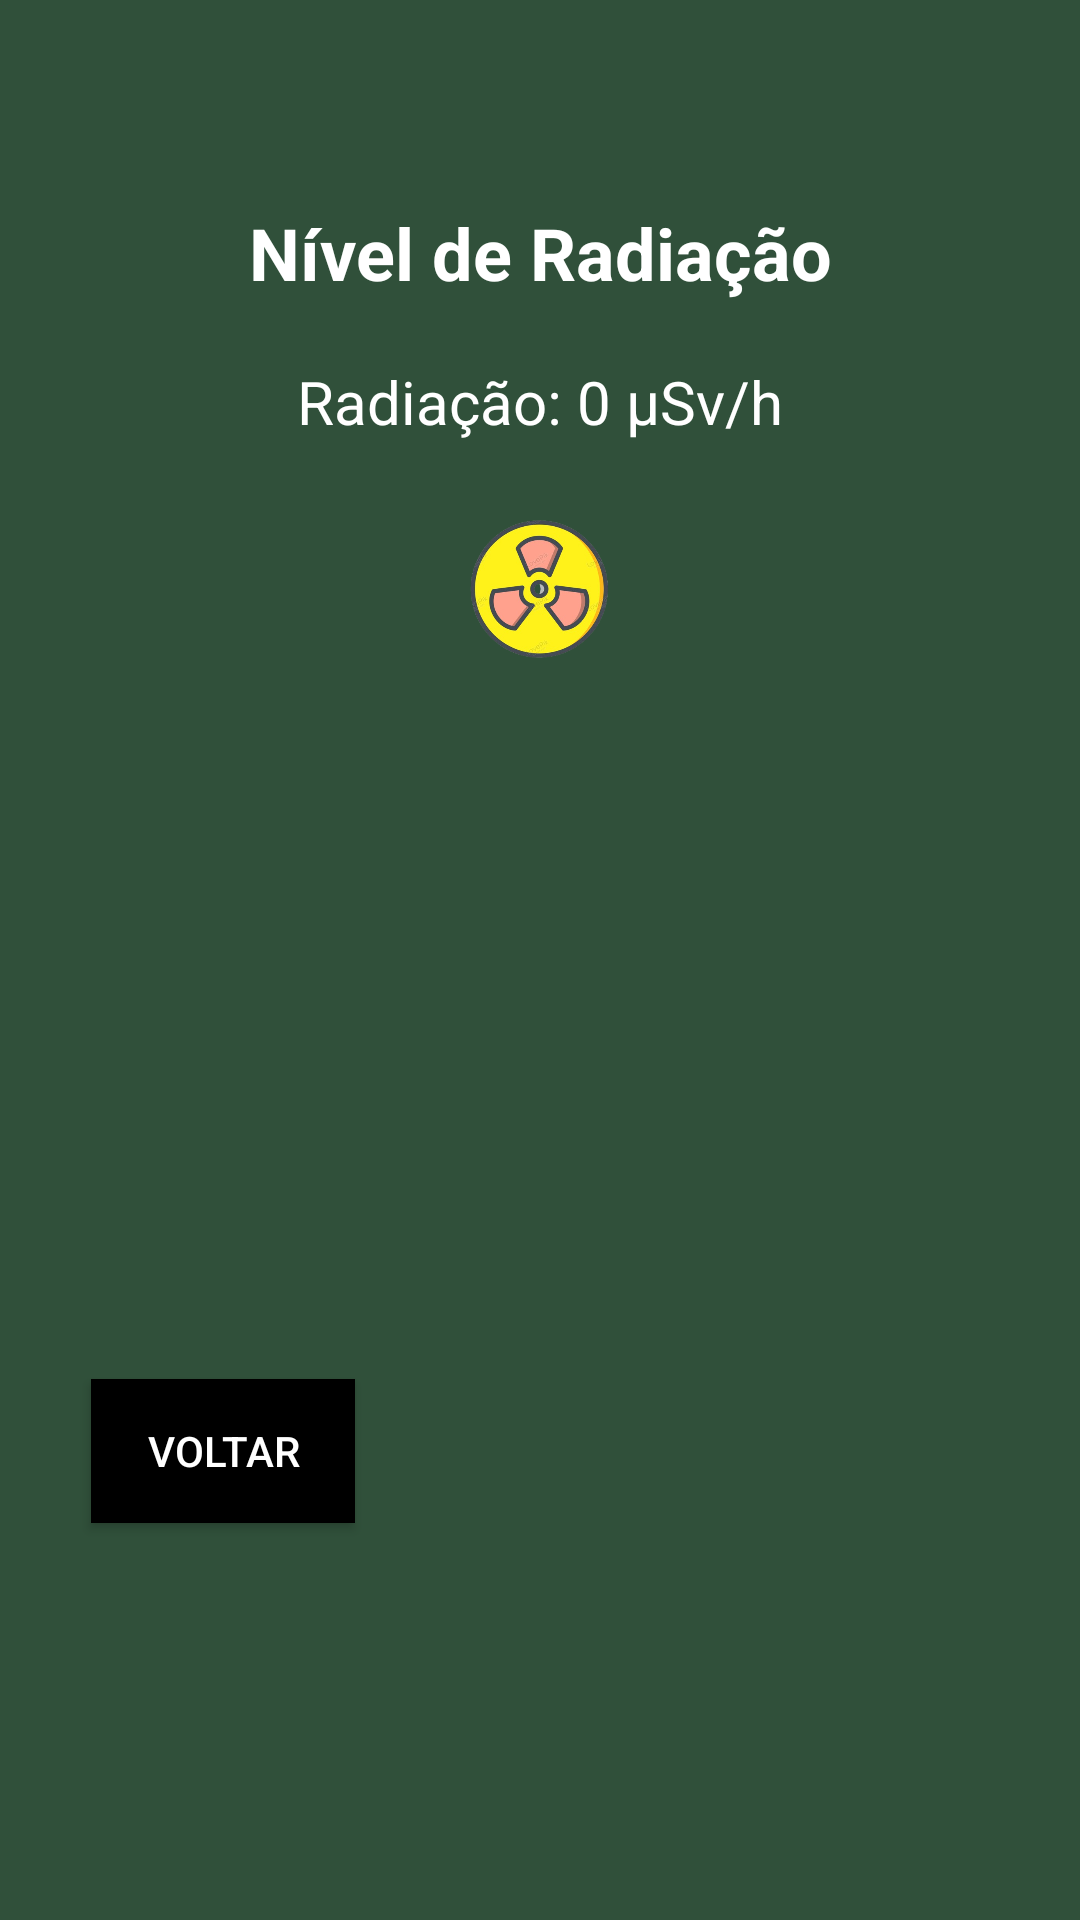

Point at icon controls on the screen. Image size 1080w x 1920h, points as point (x, y).
radiacao: point (539, 589)
